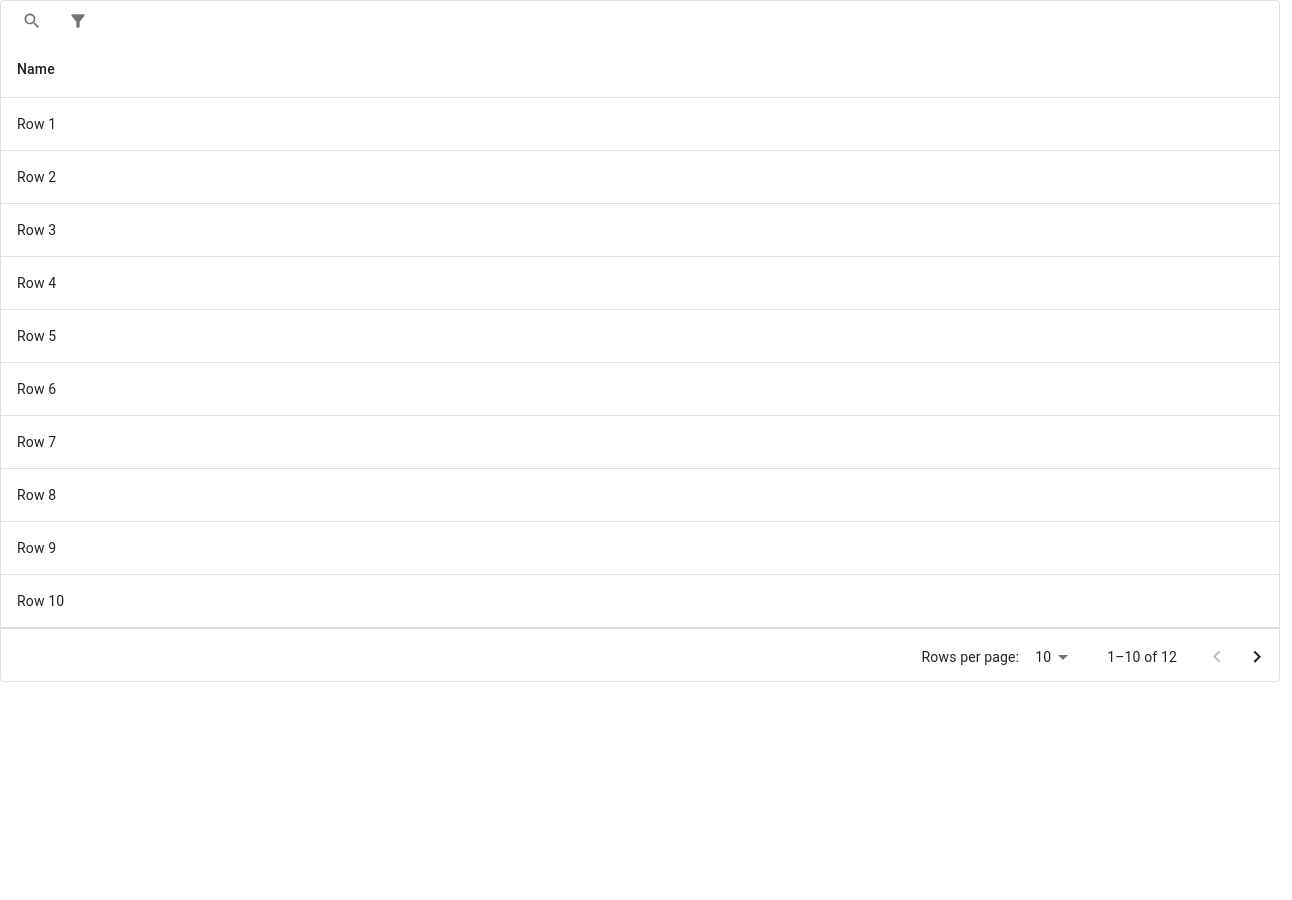
ListTable › filters rows by selecting a filter option
Step 1. Click the button named "Filters" → (78, 21), box [63,6,93,36]
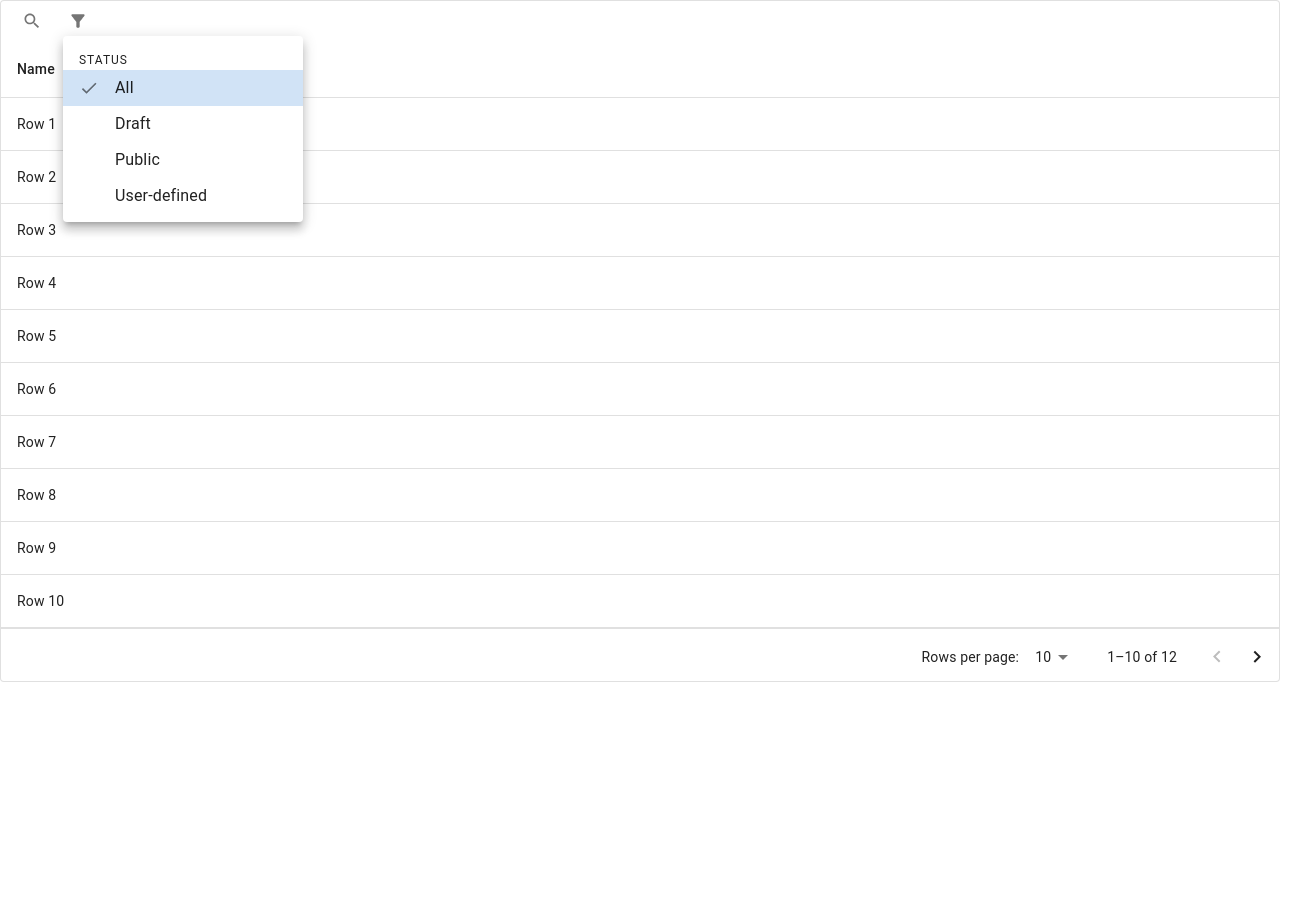
Step 2. Click the menu item "Draft" → (133, 124), box [115,114,151,133]
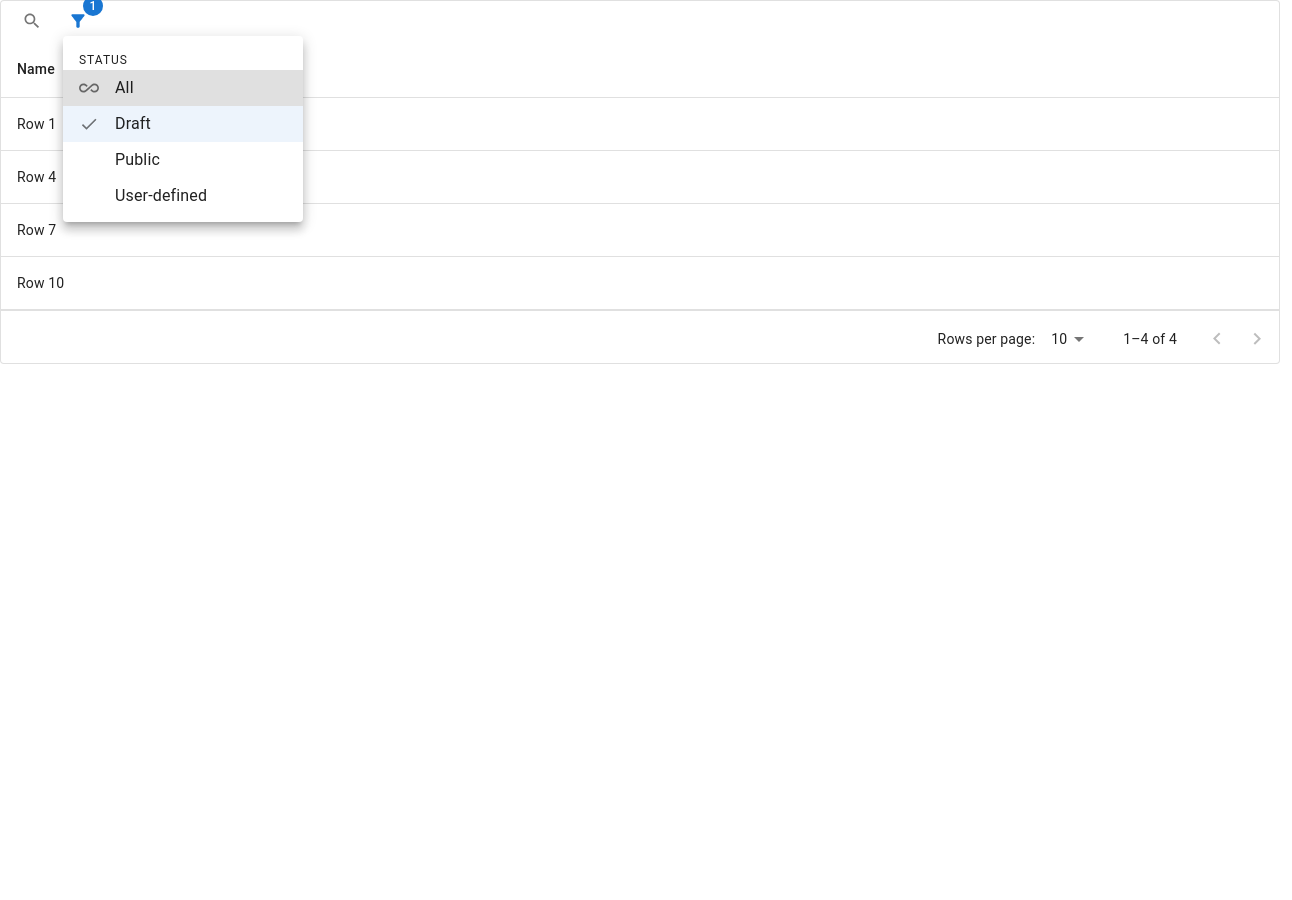
Step 3. Click the menu item "Public" → (138, 160), box [115,150,160,169]
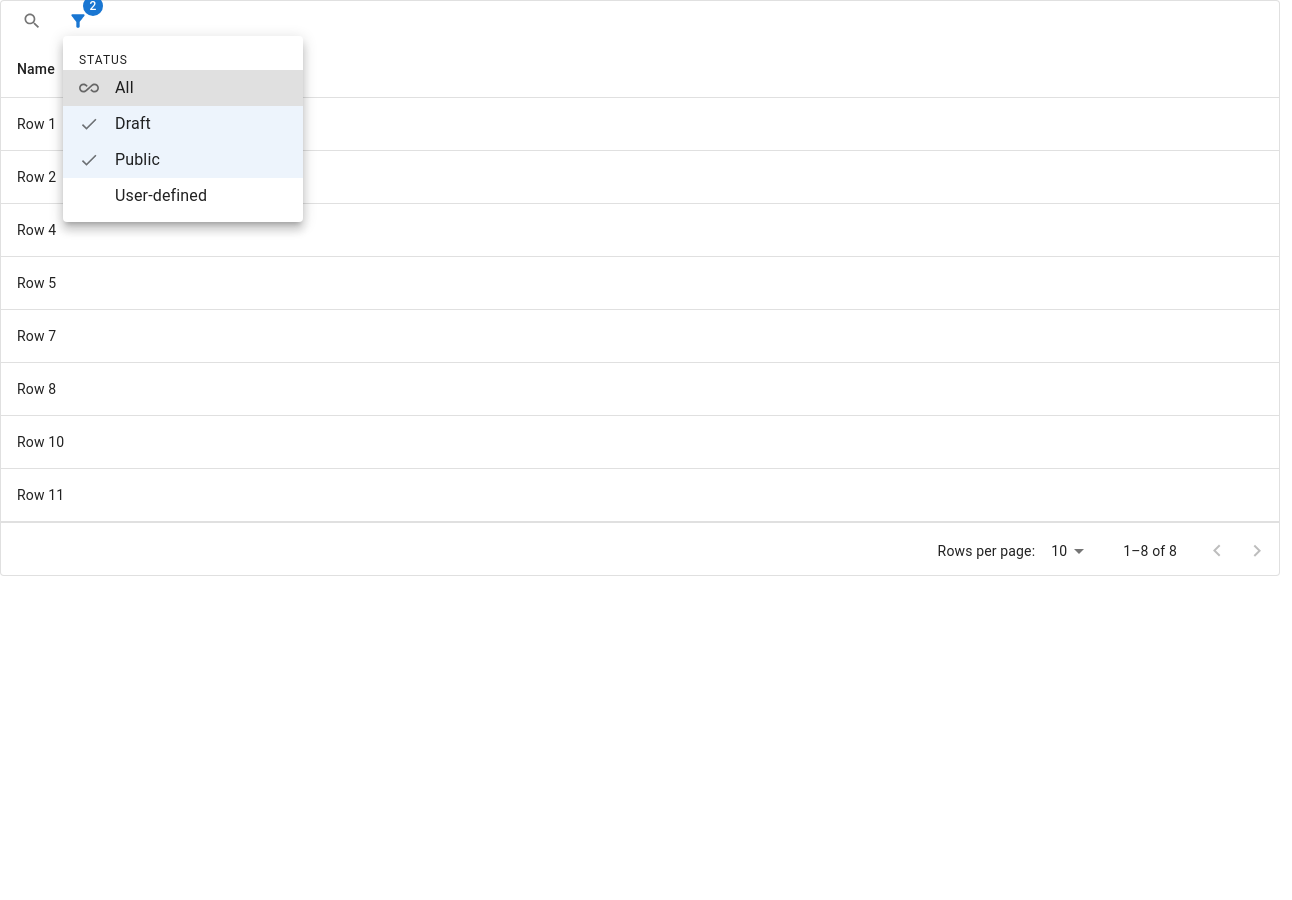
Expected: the text "Row 1" is shown, [17,116,56,132]
Now the text "Row 2" is shown, box [17,169,56,185]
